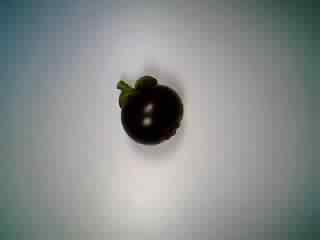mangosteen: (107, 74, 188, 148)
